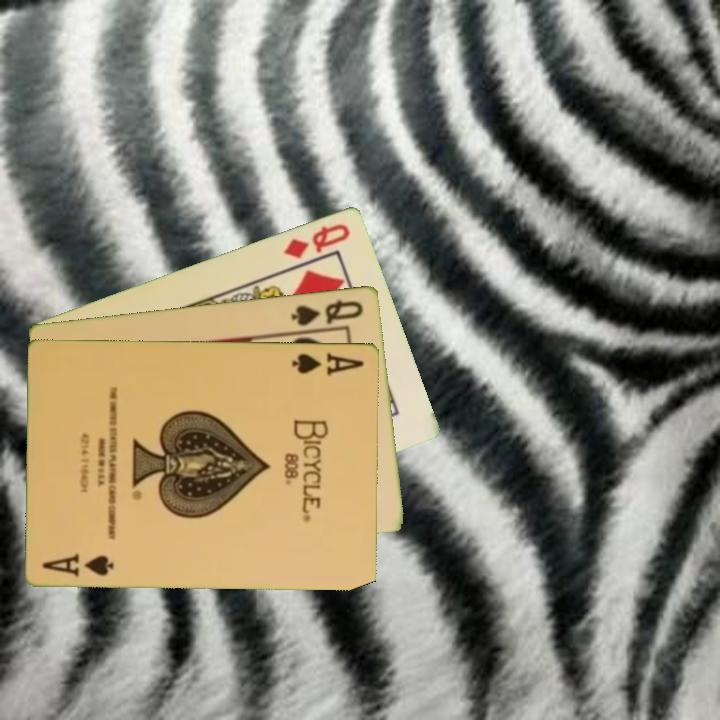As: (289, 348, 367, 377), (39, 549, 117, 578)
Qd: (279, 219, 354, 261)
Qs: (288, 295, 367, 328)
